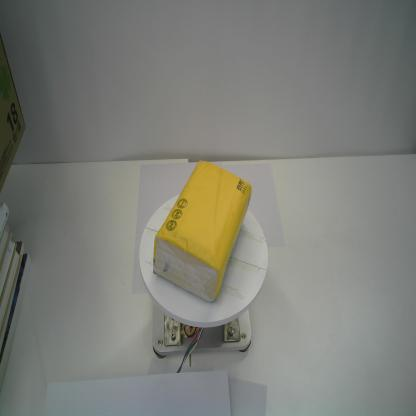Tissue: (153, 160, 252, 304)
